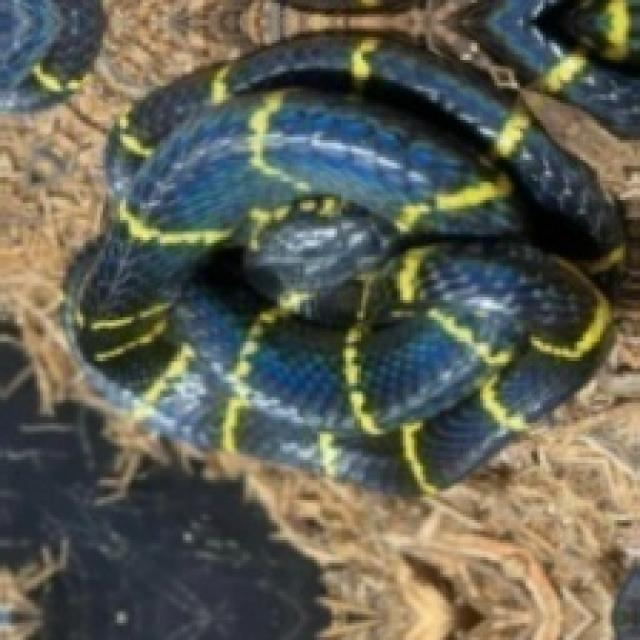mangrove cat snake: (66, 17, 637, 489)
